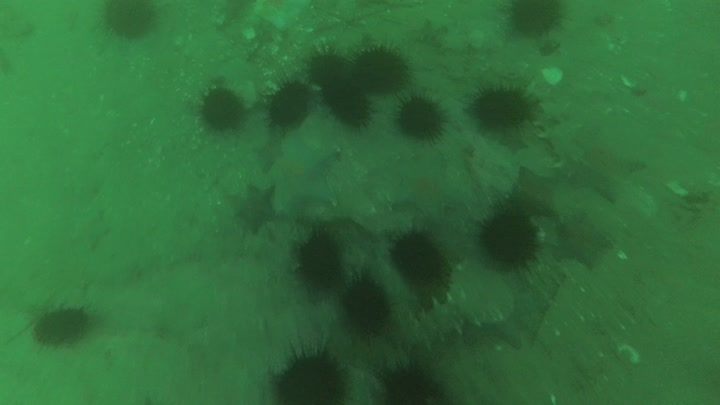echinus: (268, 335, 351, 405), (475, 201, 546, 278), (461, 77, 545, 139), (385, 224, 456, 295), (392, 81, 456, 150), (336, 267, 394, 342), (346, 38, 415, 98), (261, 68, 319, 139), (373, 351, 449, 405), (297, 226, 345, 296), (317, 82, 381, 134), (31, 301, 92, 354), (198, 81, 253, 134), (302, 42, 359, 92), (505, 1, 569, 40), (102, 1, 160, 42)
holothurian: (522, 77, 590, 181), (402, 287, 475, 351)
scallop: (447, 259, 519, 328), (514, 139, 562, 180)
starfish: (258, 132, 342, 218), (386, 153, 467, 227), (552, 209, 617, 271), (230, 182, 277, 238), (244, 124, 284, 175), (70, 208, 114, 251)
